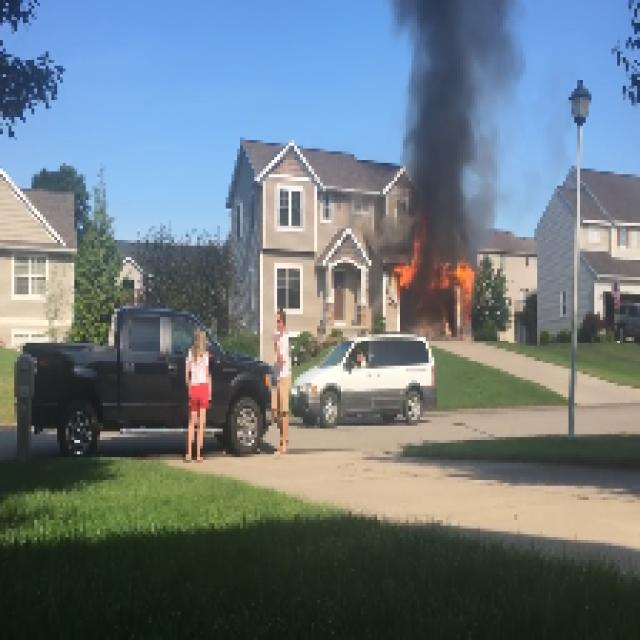smoke: (418, 3, 480, 259)
